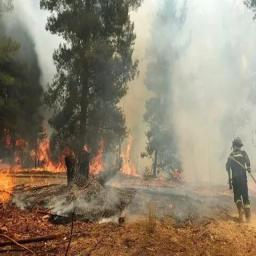Heavy smoke: (142, 0, 256, 196), (12, 1, 72, 78)
Medium fire: (1, 115, 157, 176)
Small fire: (0, 171, 30, 211)
